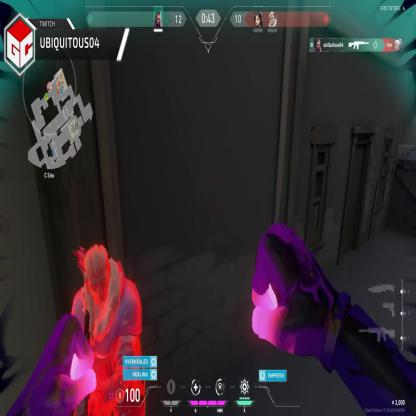enemy: (69, 242, 146, 416)
enemy_head: (82, 246, 112, 306)
